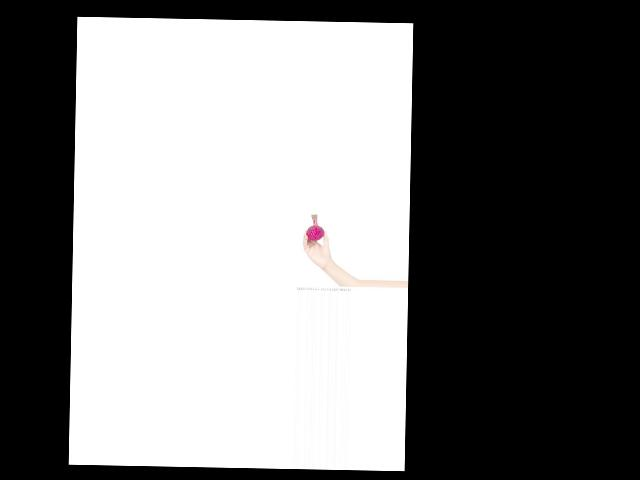beet: (305, 214, 324, 241)
